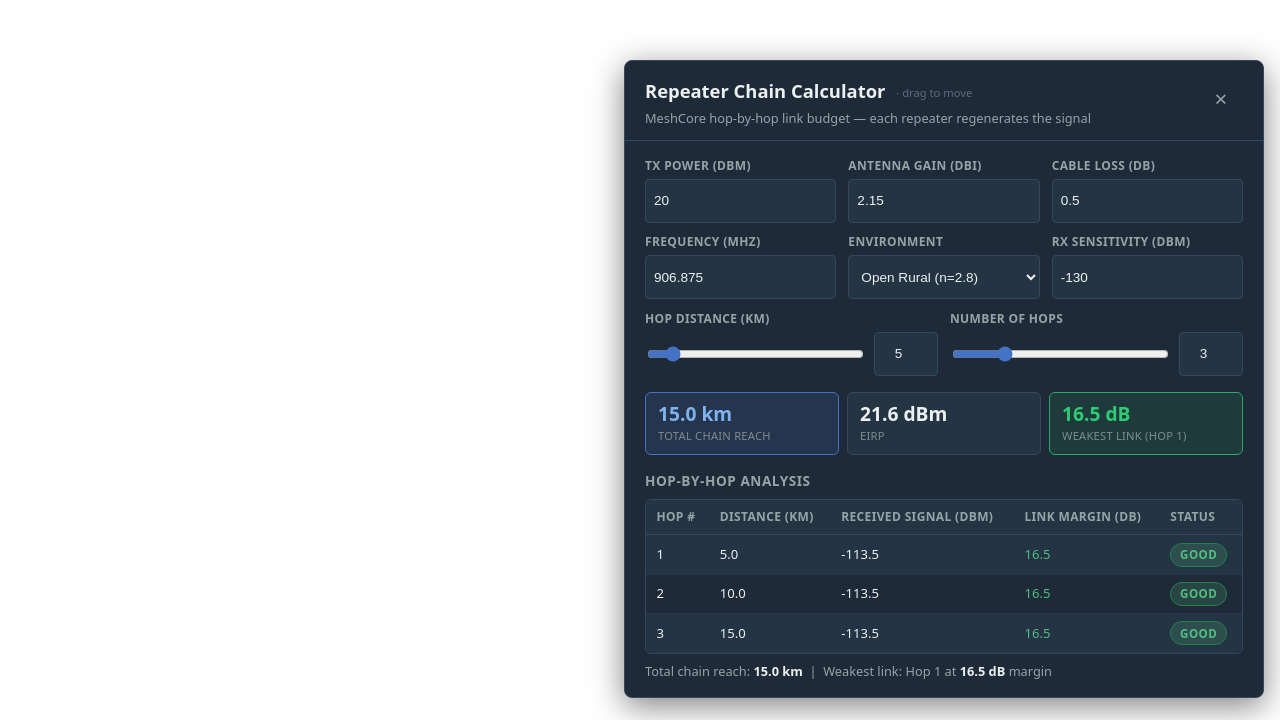
RepeaterChainModal — interaction › changing environment dropdown updates the results
# Switch from Open Rural to Urban (much higher path loss)
Select "Urban (n=4)" in the dropdown labelled "Environment" at (944, 277), box [848,255,1040,299]
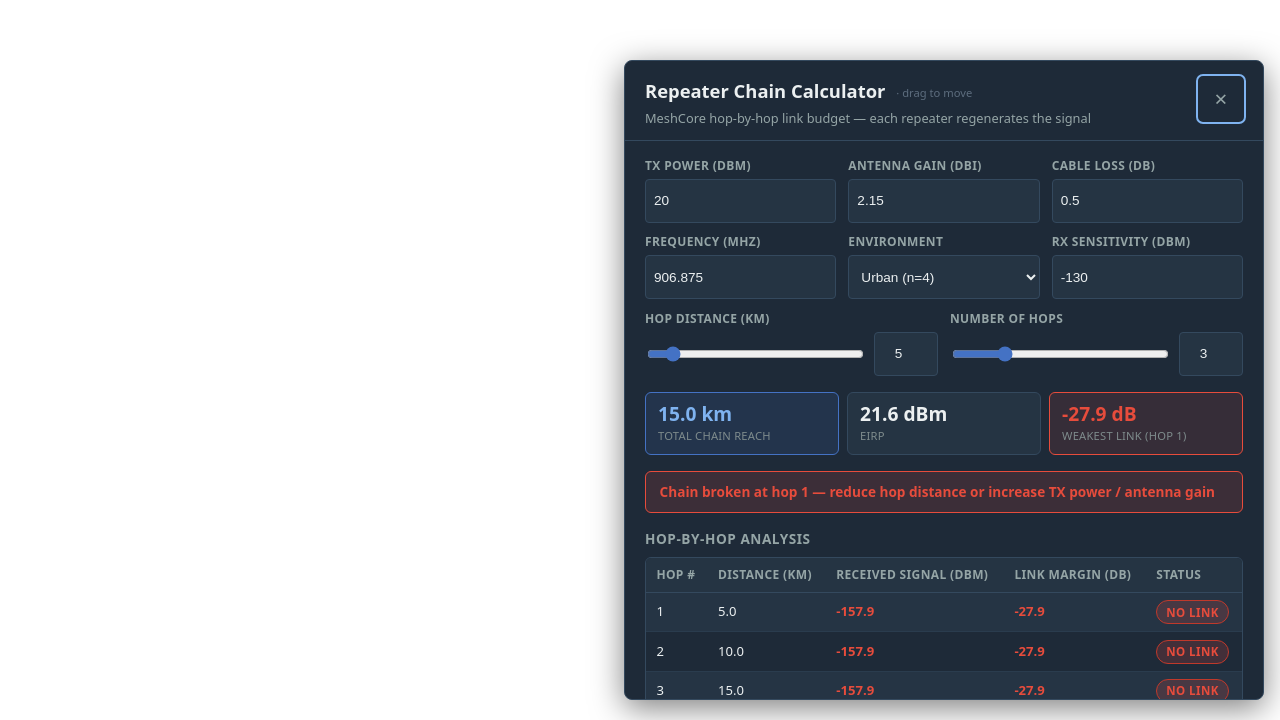
Check: the table is shown, box [646,558,1242,699]
Check: the text "Good" is gone
